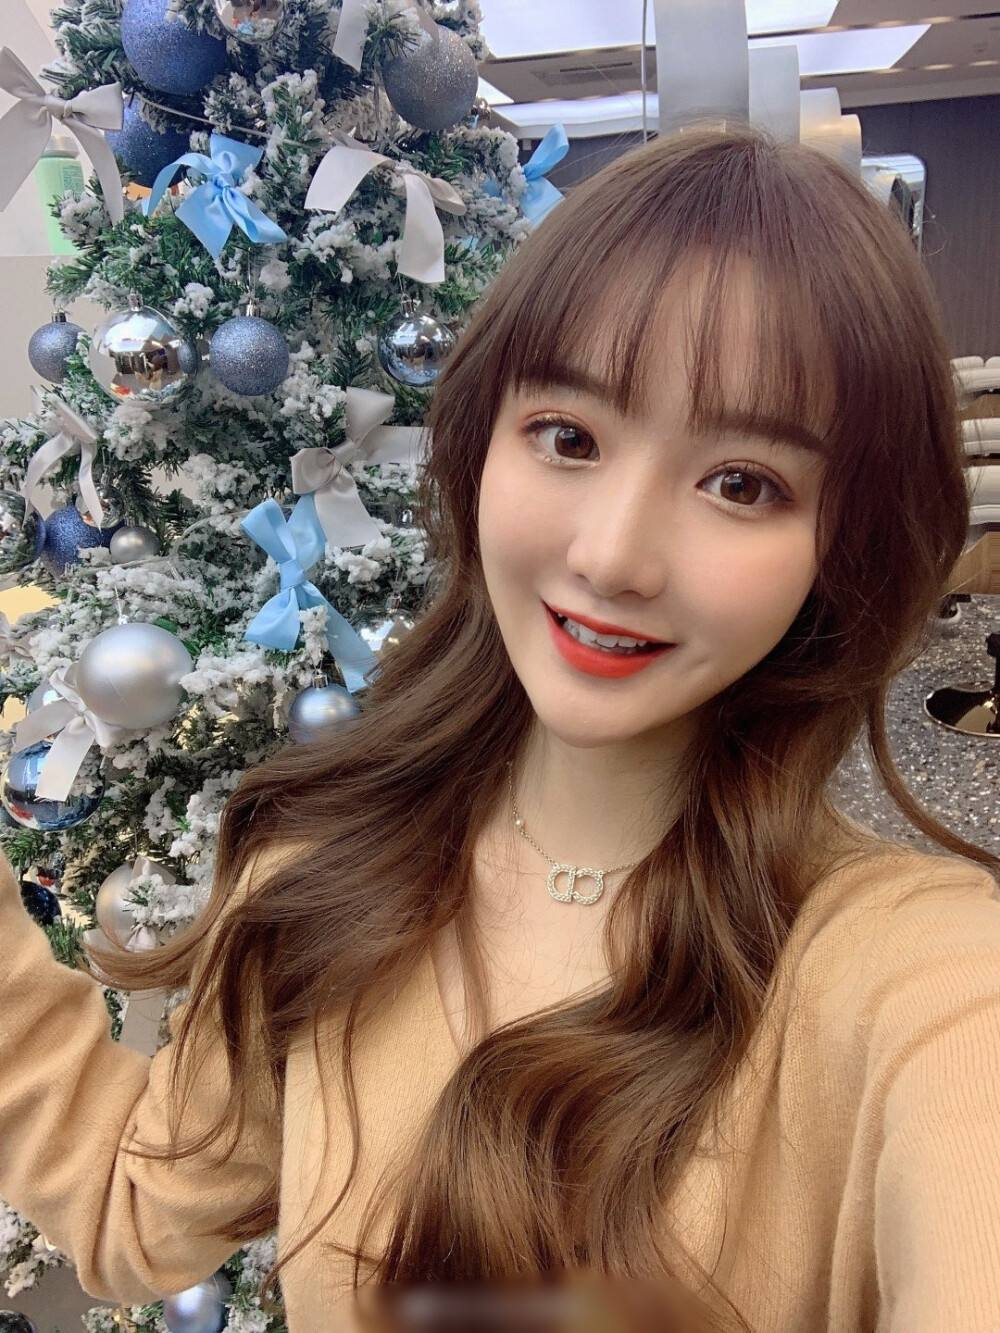person: (233, 146, 966, 1229)
